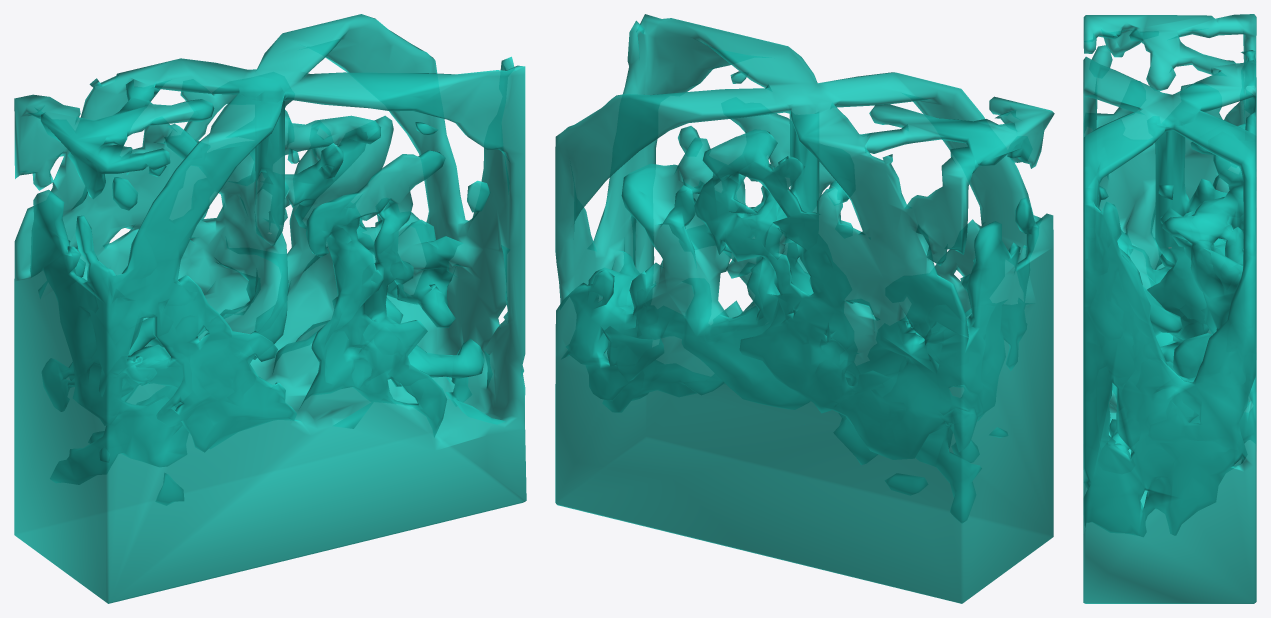
3 renders of one model, left to right at view 1: azimuth 30°, elevation 25°; view 2: azimuth 150°, elevation 25°; view 3: azimuth 270°, elevation 25°, orthographic. The views are drawn at different scales.
Visible parts, largest first — view 1: Liquid_Domain; view 2: Liquid_Domain; view 3: Liquid_Domain.
Boxes of the visible parts, x1,y1,x2,y2 form: Liquid_Domain: (14, 14, 526, 603); Liquid_Domain: (555, 14, 1054, 603); Liquid_Domain: (1083, 14, 1256, 603).
Bounding box in the file's own units: 884 × 884 × 345.
